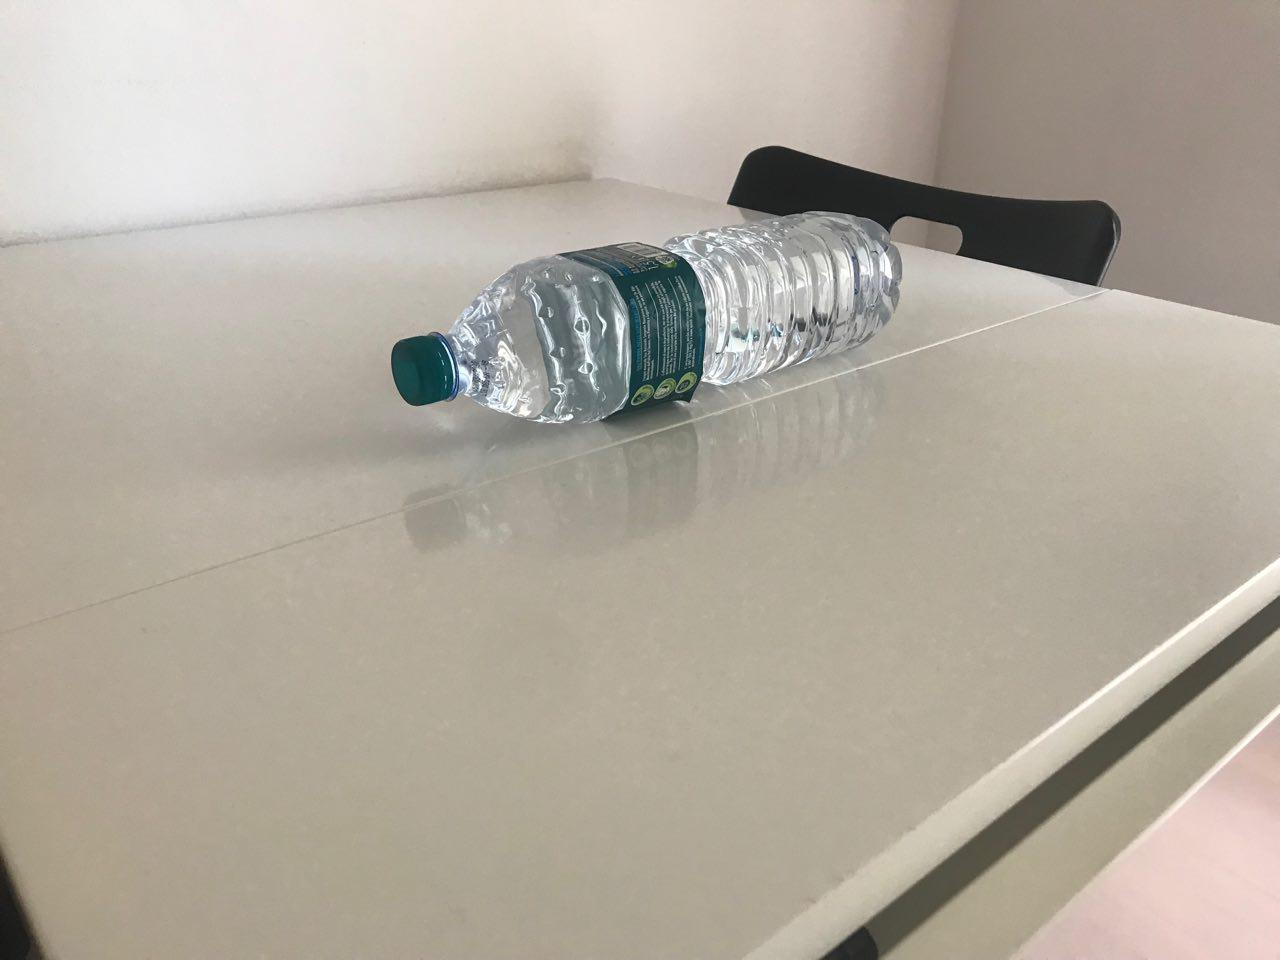san_bernardo: (390, 211, 904, 425)
